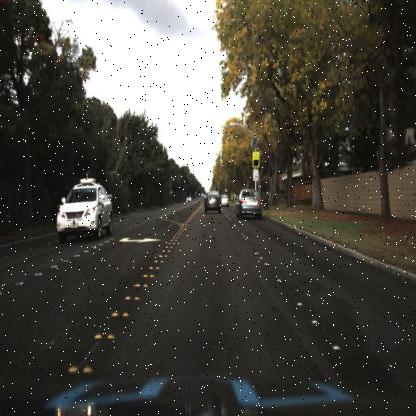car: (54, 174, 114, 242), (233, 184, 264, 221), (198, 189, 226, 221), (184, 192, 194, 209), (219, 196, 229, 212)
